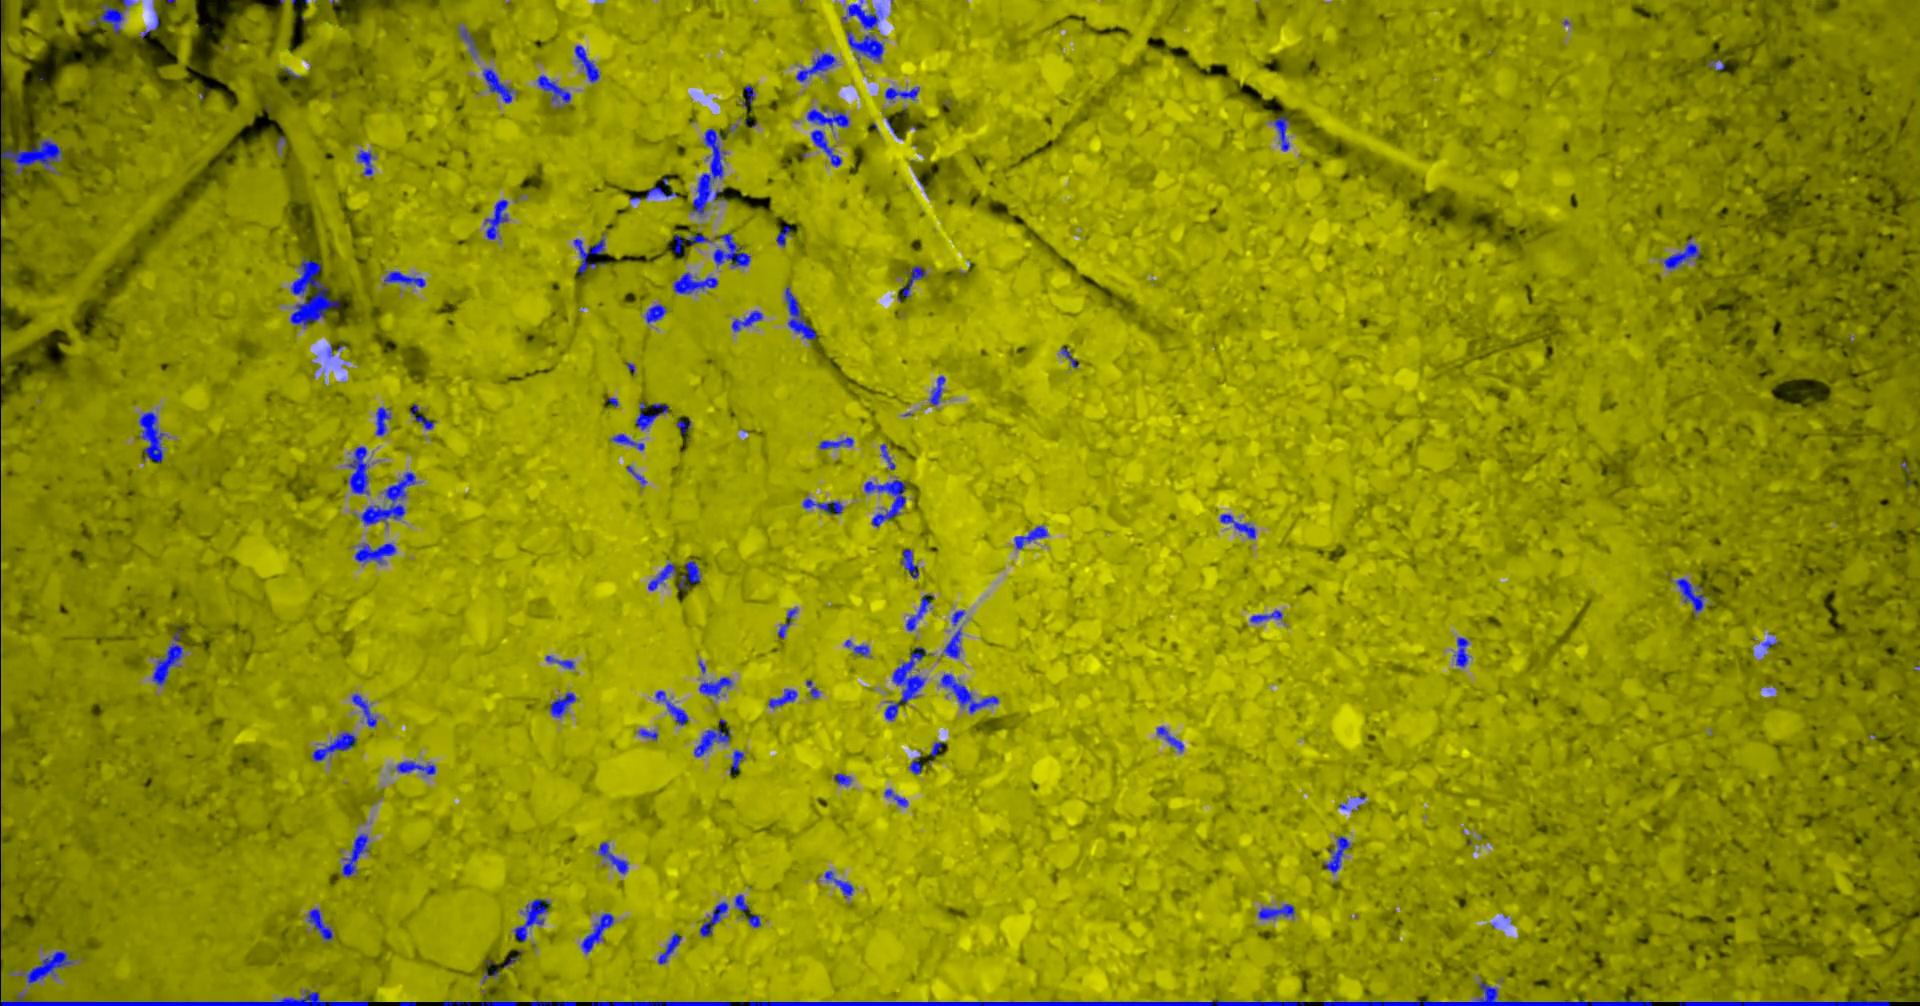ant: (691, 128, 728, 216), (884, 647, 926, 720), (361, 473, 415, 525), (940, 673, 998, 713), (863, 479, 905, 527), (0, 138, 61, 171), (152, 626, 183, 685), (783, 287, 817, 339), (25, 950, 72, 984), (513, 898, 549, 941), (311, 730, 356, 761), (138, 412, 164, 462), (582, 912, 613, 953), (712, 232, 750, 265), (1663, 236, 1700, 269), (795, 52, 836, 81), (844, 30, 883, 61), (342, 833, 368, 876), (573, 238, 604, 273), (655, 690, 687, 725), (810, 130, 841, 166), (1677, 1000, 1890, 1005), (1323, 835, 1351, 873), (806, 105, 850, 130), (347, 446, 368, 494), (698, 901, 728, 936), (905, 593, 933, 630), (91, 3, 123, 34), (1675, 578, 1704, 612), (672, 272, 717, 293), (574, 44, 599, 83), (598, 841, 629, 873), (483, 69, 512, 102), (846, 3, 881, 29), (693, 729, 729, 756), (635, 401, 668, 429), (536, 75, 570, 102), (1219, 513, 1255, 539), (484, 199, 507, 239), (350, 694, 376, 727), (734, 894, 759, 927), (354, 542, 395, 563), (899, 265, 924, 297), (1015, 525, 1048, 549), (823, 870, 853, 895), (307, 908, 331, 940), (673, 232, 710, 253), (648, 563, 676, 589), (676, 560, 700, 589), (657, 934, 681, 963), (1156, 727, 1183, 751), (383, 271, 424, 287), (803, 498, 843, 514), (731, 310, 762, 332), (629, 185, 676, 199), (409, 403, 433, 429), (549, 692, 575, 716), (940, 627, 961, 657), (698, 677, 731, 696), (1257, 903, 1294, 920), (777, 608, 797, 638), (395, 760, 436, 774), (1272, 116, 1289, 150), (458, 27, 477, 56), (590, 1001, 731, 1005), (768, 688, 796, 708), (612, 433, 644, 450), (900, 547, 918, 577), (884, 86, 919, 99), (1453, 636, 1468, 666), (1250, 608, 1281, 622), (884, 788, 907, 807), (930, 375, 943, 405), (375, 406, 390, 434), (644, 304, 665, 323), (818, 437, 853, 448), (356, 150, 372, 174), (844, 639, 869, 655), (879, 443, 894, 469), (626, 465, 646, 484), (1060, 345, 1077, 367), (545, 655, 573, 668), (729, 749, 743, 774), (776, 225, 790, 246), (742, 85, 754, 107), (805, 680, 819, 699), (908, 754, 921, 774), (637, 728, 657, 739), (676, 418, 690, 433), (930, 741, 943, 756), (833, 774, 851, 785), (951, 610, 964, 625), (528, 1001, 577, 1005), (479, 1001, 519, 1005), (441, 1001, 470, 1005)
